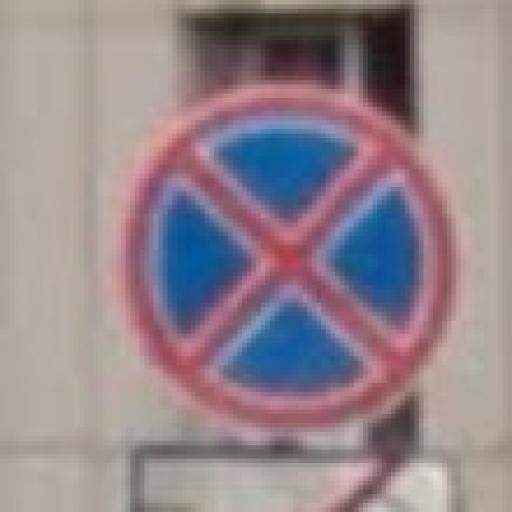traffic_sign: (113, 81, 462, 437)
